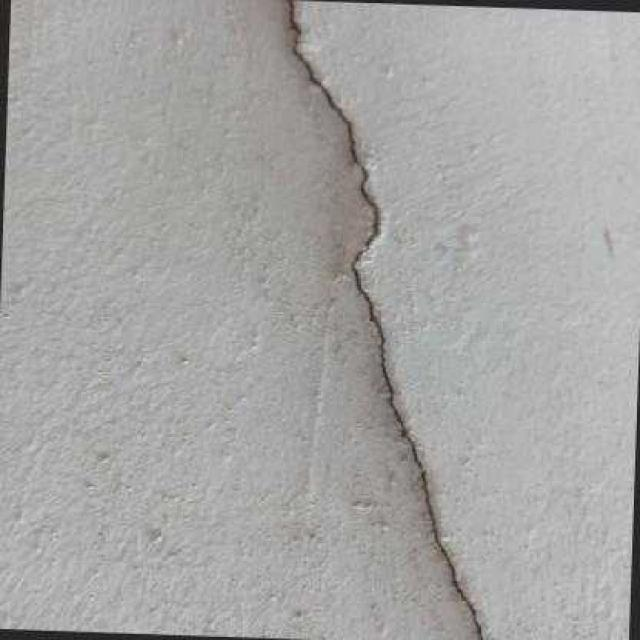D00: (287, 0, 485, 640)
